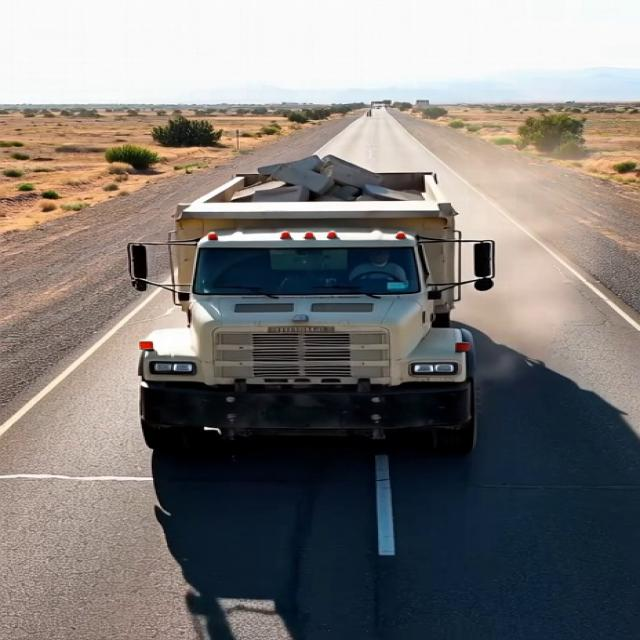trailer: (183, 154, 441, 222)
truck: (112, 142, 512, 468)
